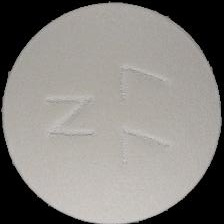0093-2932: (0, 0, 224, 224)
